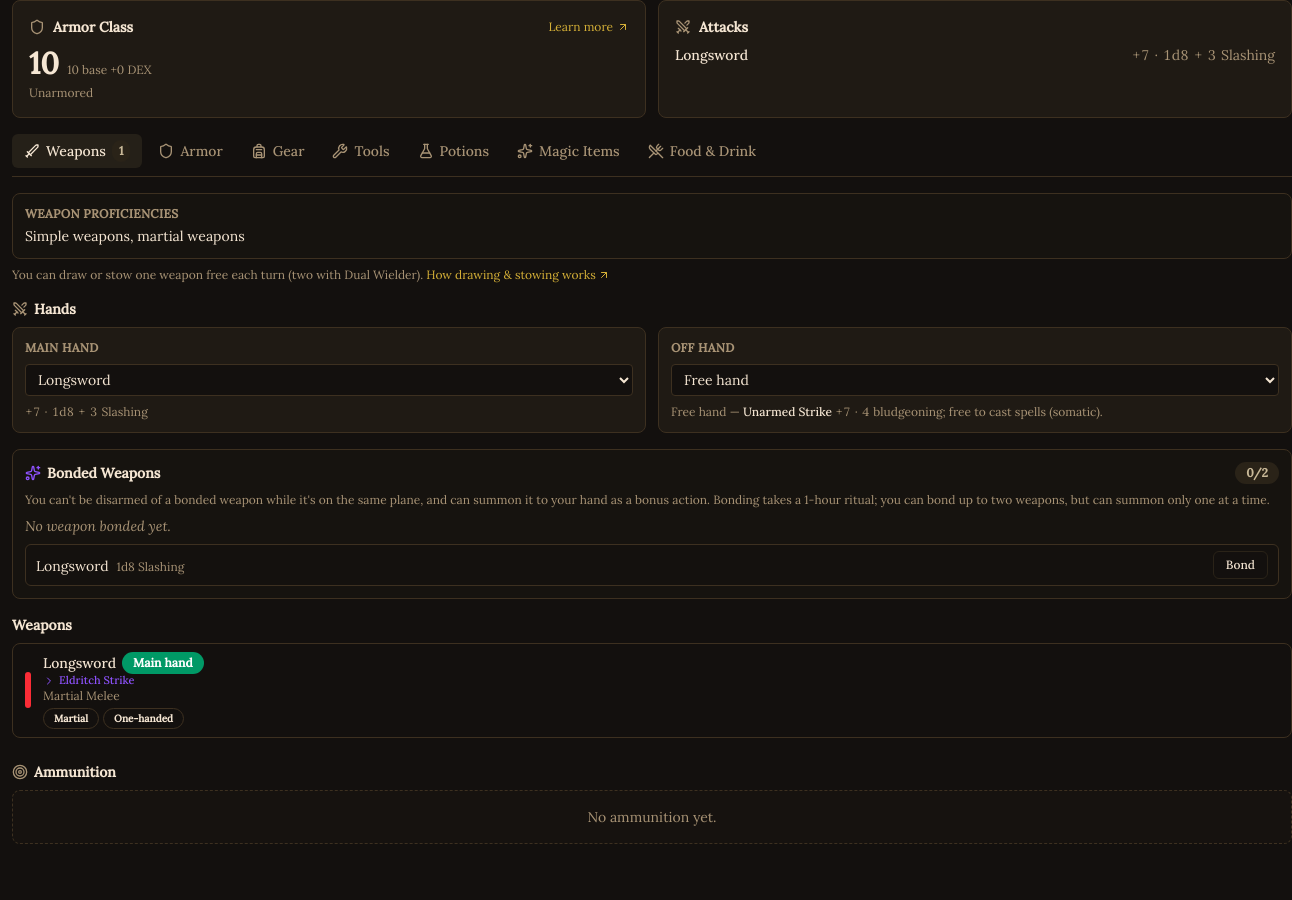
Scenario: InventoryTab › shows the Eldritch Strike note on weapon rows for an Eldritch Knight at L10
What coordinates should you click on to do the following:
click the button with test id "eldritch-strike-w1"
I would click on:
 (89, 681)
Its box is [43,674,134,688].
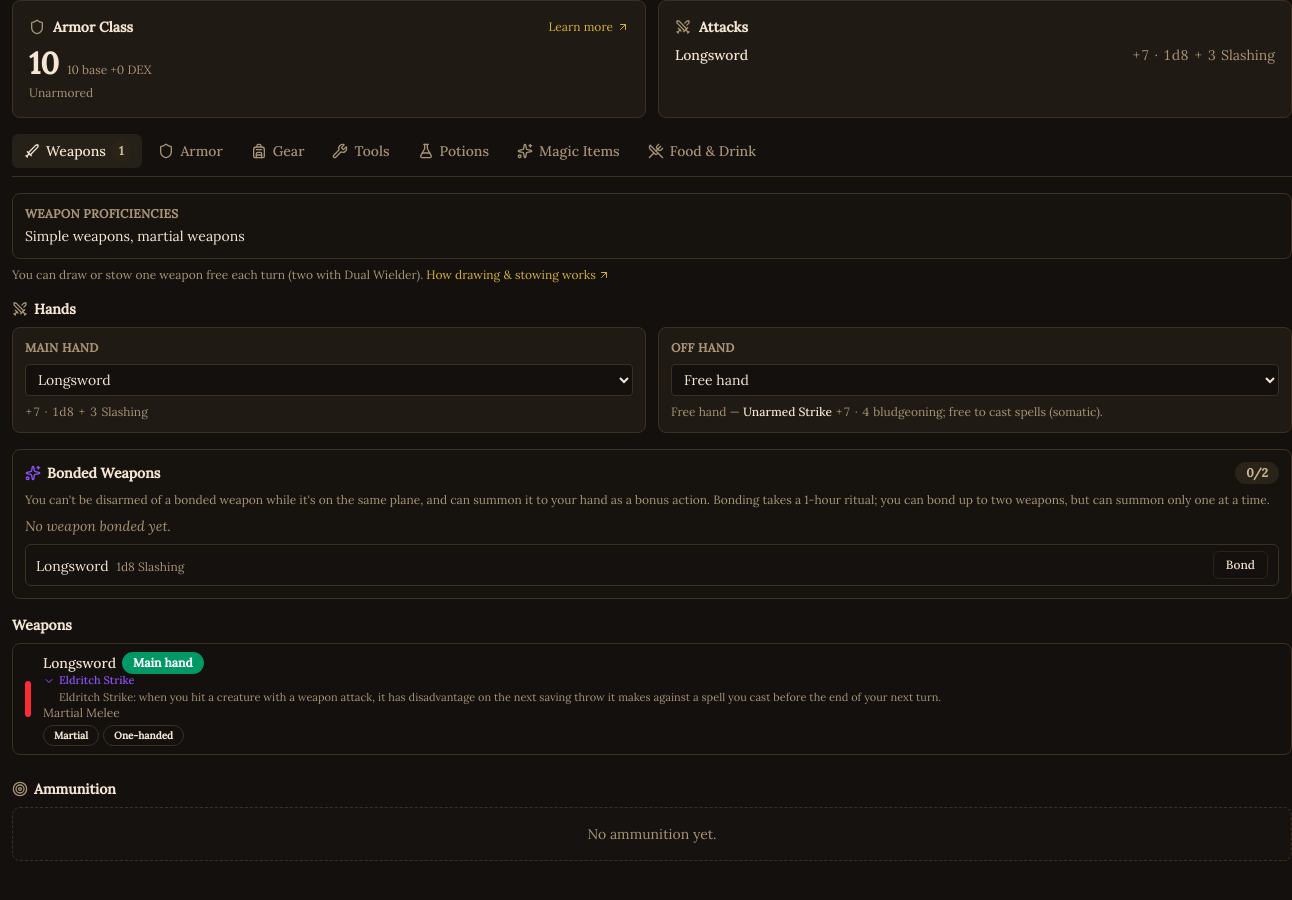
Expected: the text with test id "eldritch-strike-w1-text" shows "disadvantage on the next saving throw", [59,690,941,704]
